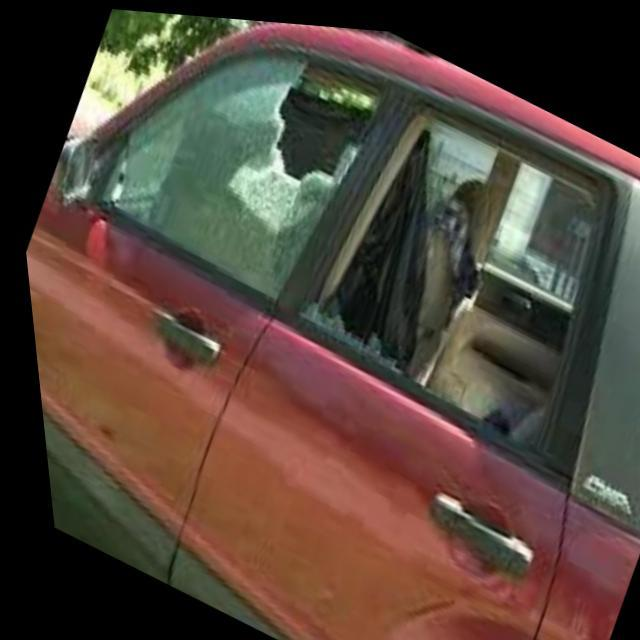glass shatter: (62, 28, 615, 469)
